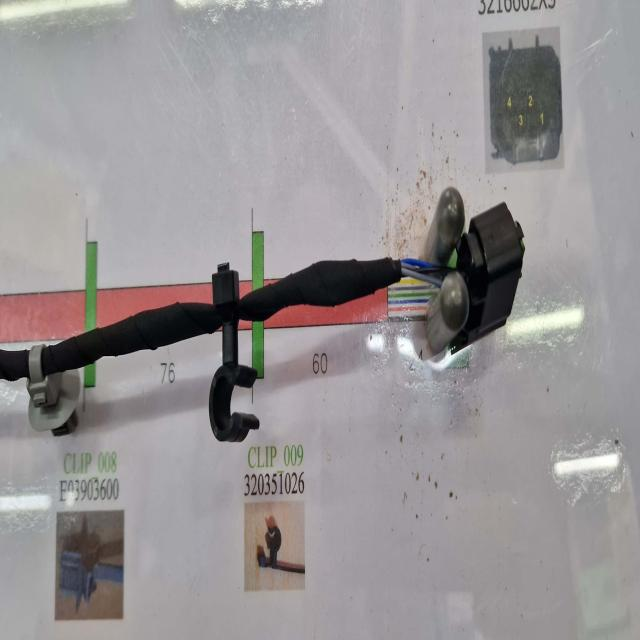Clip: (209, 259, 259, 441), (27, 344, 81, 437)
Connector: (450, 202, 525, 351)
Gape: (391, 230, 471, 313)
MHEV_N11_Cable: (5, 258, 404, 445)
